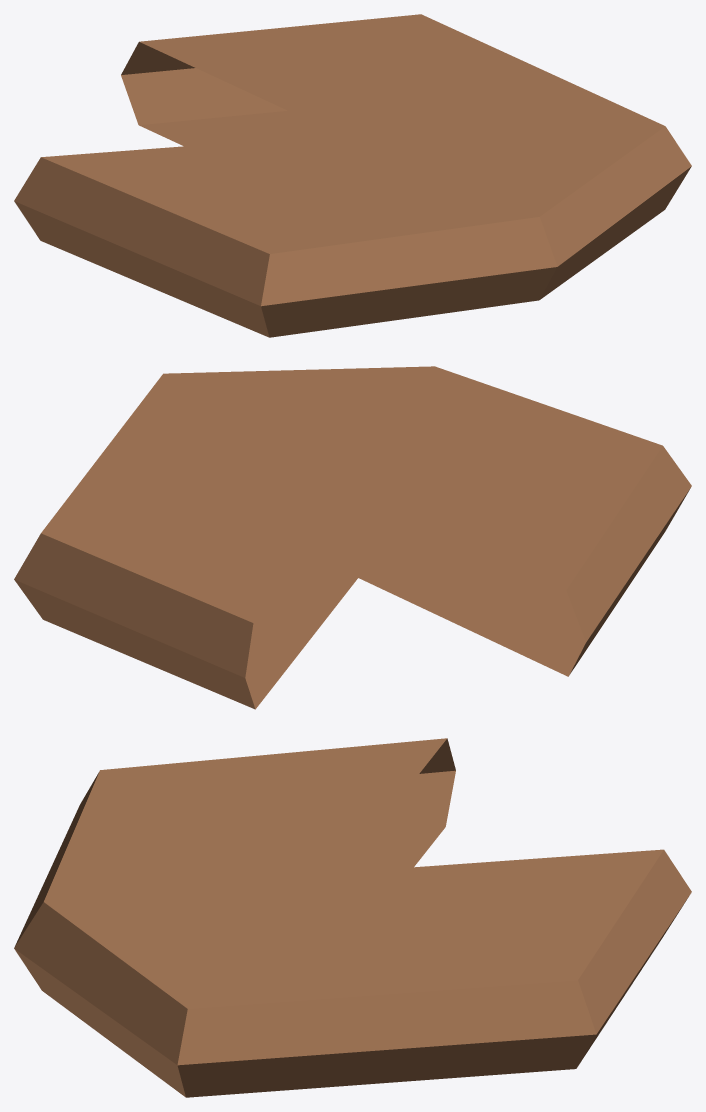
File: TreeMushroom5.fbx
3 renders of one model, top to bottom at view 1: azimuth 30°, elevation 25°; view 2: azimuth 150°, elevation 25°; view 3: azimuth 270°, elevation 25°, orthographic. The views are drawn at different scales.
Visible parts, largest first — view 1: Medium_Tree_Mushroom; view 2: Medium_Tree_Mushroom; view 3: Medium_Tree_Mushroom.
Boxes of the visible parts, box(x1,y1,x2,y2) form: Medium_Tree_Mushroom: box(14, 14, 691, 337); Medium_Tree_Mushroom: box(14, 366, 691, 709); Medium_Tree_Mushroom: box(14, 738, 691, 1097).
Size of the model in its own units: 1.15 by 0.1901 by 1.13.
